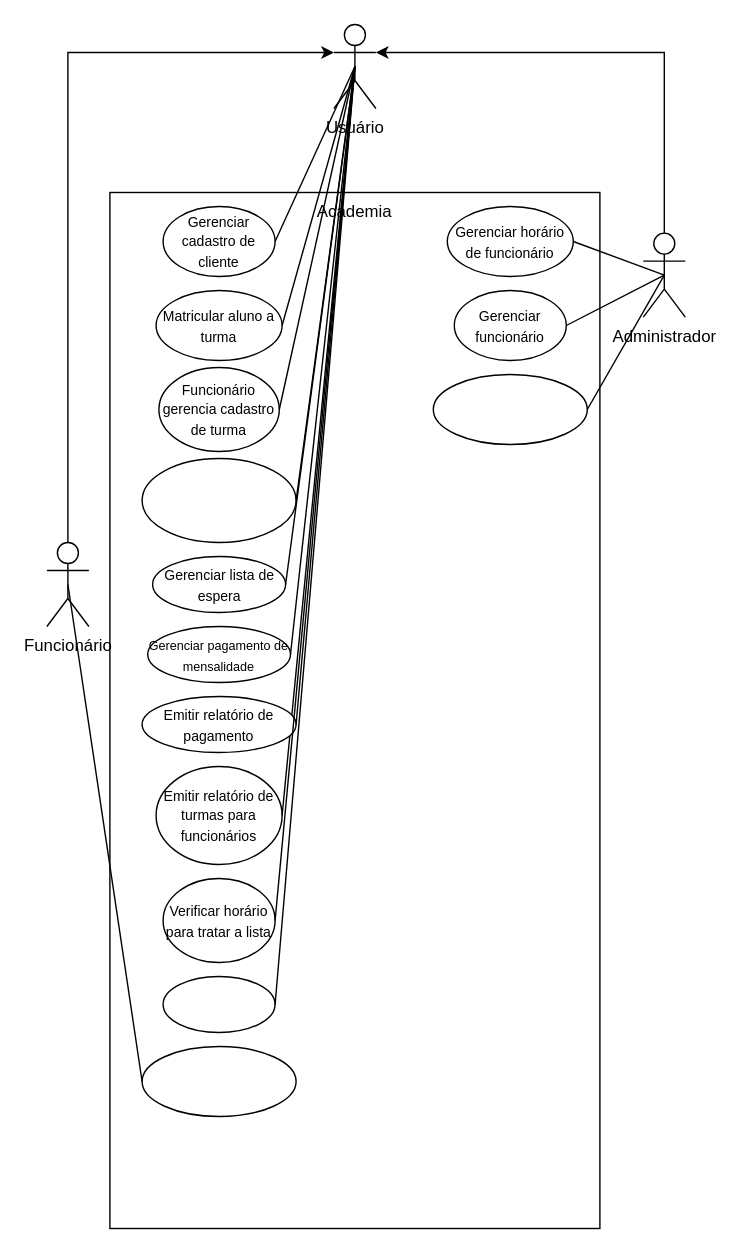
This 741x1253 diagram has some shape labels left out. Each missing label, with the centre of its shape:
Emitir relatório de aluno: (218,499)
Realizar login como administrador: (509,408)
Realizar login como funcionário: (218,1080)
Visualizar turma na semana: (218,1003)
